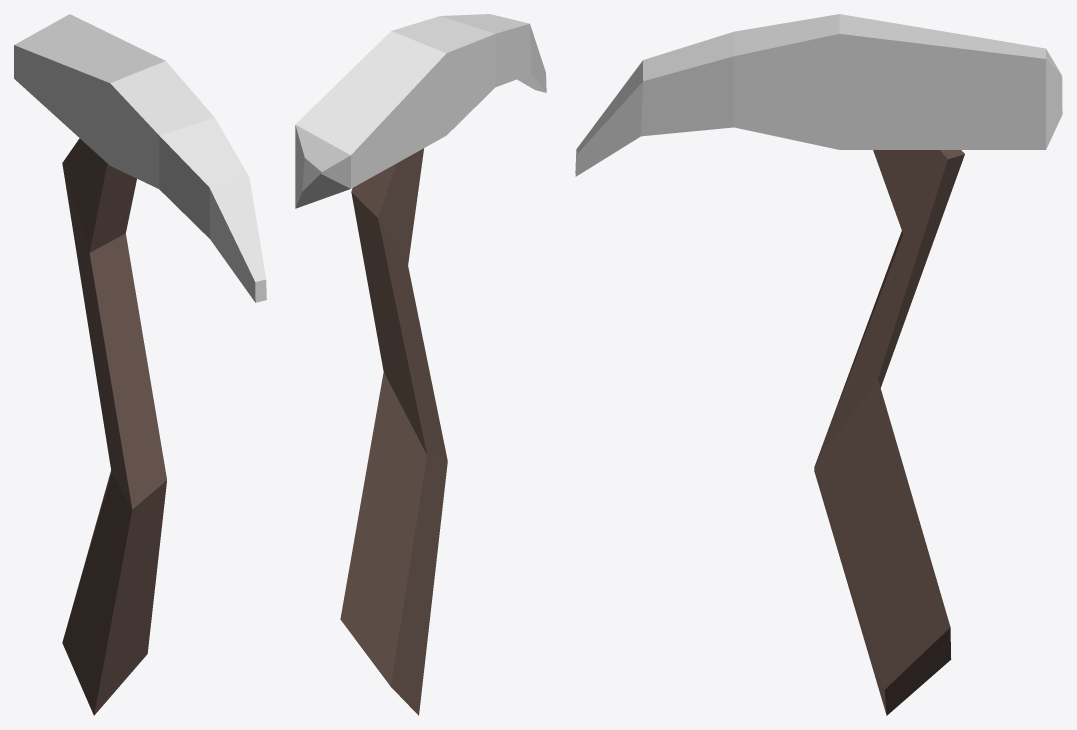
File: sickle.glb
3 views of the same model, side by side, from view 1: azimuth 30°, elevation 25°; view 2: azimuth 150°, elevation 25°; view 3: azimuth 270°, elevation 25° (orthographic). The views are drawn at different scales.
Visible parts, largest first — view 1: Cube.002; view 2: Cube.002; view 3: Cube.002.
Part boxes in pixels (<box>): Cube.002: <box>14,14,266,715</box>; Cube.002: <box>295,14,546,715</box>; Cube.002: <box>575,14,1062,715</box>.
Size of the model in its own units: 0.1474 by 1.59 by 0.9898.
